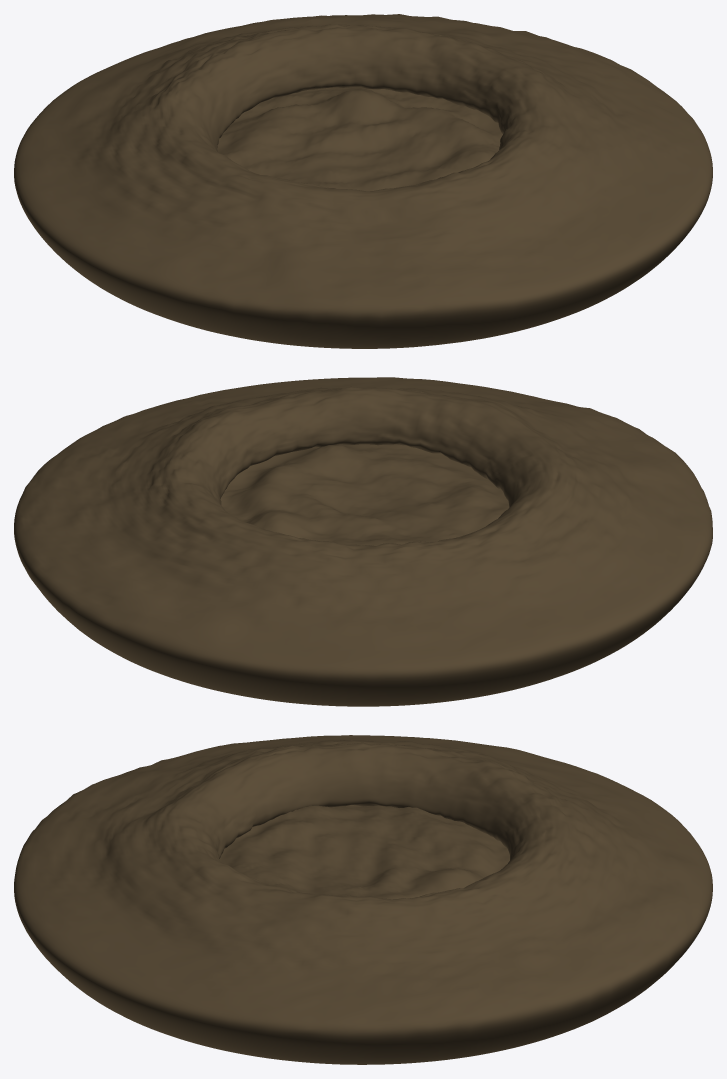
File: dug_hole.fbx
The picture shows the model from 3 angles, top to bottom: view 1: azimuth 30°, elevation 25°; view 2: azimuth 150°, elevation 25°; view 3: azimuth 270°, elevation 25°; orthographic projection.
Visible parts, largest first — view 1: pTorus1, pPlane1; view 2: pTorus1, pPlane1; view 3: pTorus1, pPlane1.
Boxes of the visible parts, x1,y1,x2,y2 form: pTorus1: [14, 14, 712, 348]; pPlane1: [217, 87, 502, 191]; pTorus1: [14, 377, 712, 706]; pPlane1: [220, 444, 509, 545]; pTorus1: [14, 735, 712, 1064]; pPlane1: [219, 805, 509, 899].
Bounding box in the file's own units: 22.69 × 4.31 × 22.69.
